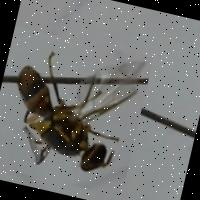Oriental-fruit-fly: (0, 26, 152, 196)
